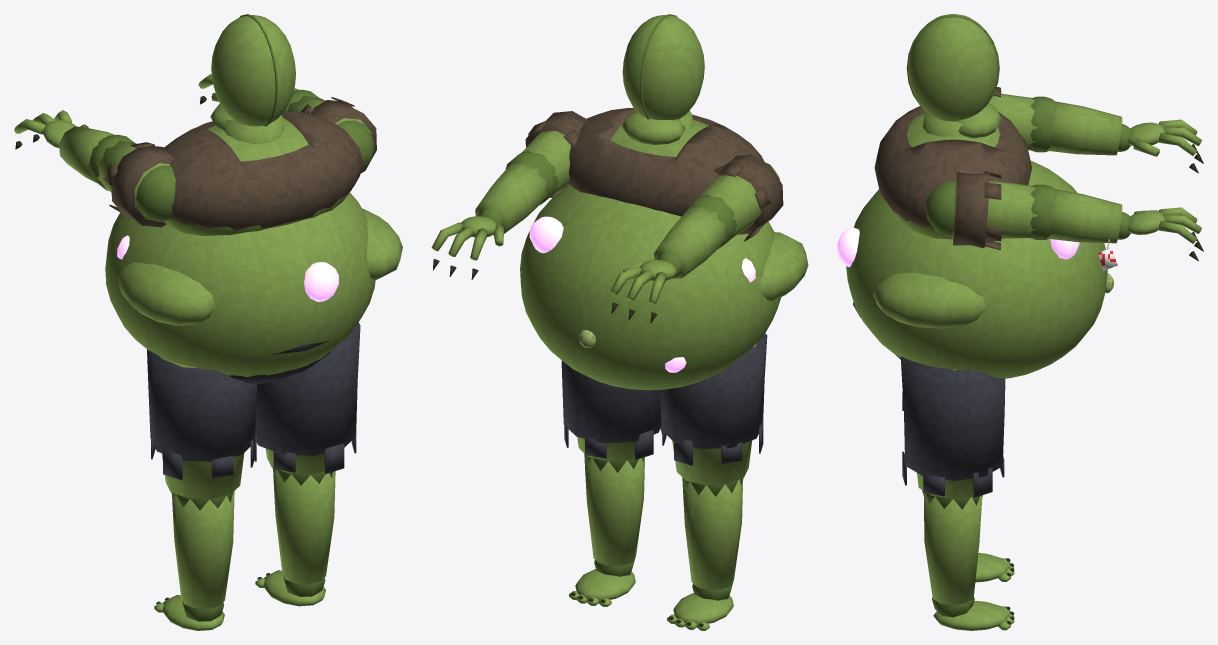
Rendered from z_chonk.glb.
3 renders of one model, left to right at view 1: azimuth 30°, elevation 25°; view 2: azimuth 150°, elevation 25°; view 3: azimuth 270°, elevation 25°, orthographic. The views are drawn at different scales.
Visible parts, largest first — view 1: part_body, part_legL, part_legR, part_kneeL, part_kneeR, part_head, part_armL, part_arm; view 2: part_body, part_legL, part_armL, part_arm, part_kneeL, part_kneeR, part_legR, part_head; view 3: part_body, part_legR, part_arm, part_head, part_armL, part_kneeR, part_kneeL.
Boxes of the visible parts, <box> form: part_body: <box>105,104,402,383</box>; part_legL: <box>147,349,257,499</box>; part_legR: <box>254,322,360,474</box>; part_kneeL: <box>154,491,234,630</box>; part_kneeR: <box>255,468,335,606</box>; part_head: <box>211,14,295,126</box>; part_armL: <box>14,110,175,227</box>; part_arm: <box>198,74,376,173</box>; part_body: <box>520,108,808,390</box>; part_legL: <box>660,333,767,485</box>; part_armL: <box>610,154,783,323</box>; part_arm: <box>431,111,587,279</box>; part_kneeL: <box>667,477,743,630</box>; part_kneeR: <box>569,454,644,606</box>; part_legR: <box>561,360,662,461</box>; part_head: <box>622,14,704,120</box>; part_body: <box>837,103,1114,378</box>; part_legR: <box>900,356,1005,498</box>; part_arm: <box>952,171,1203,270</box>; part_head: <box>906,14,999,121</box>; part_armL: <box>988,87,1203,173</box>; part_kneeR: <box>922,490,1014,630</box>; part_kneeL: <box>975,553,1014,582</box>.
Bounding box in the file's own units: 0.88 × 1.93 × 1.09.
Materials: 11 (8 with a texture image).
